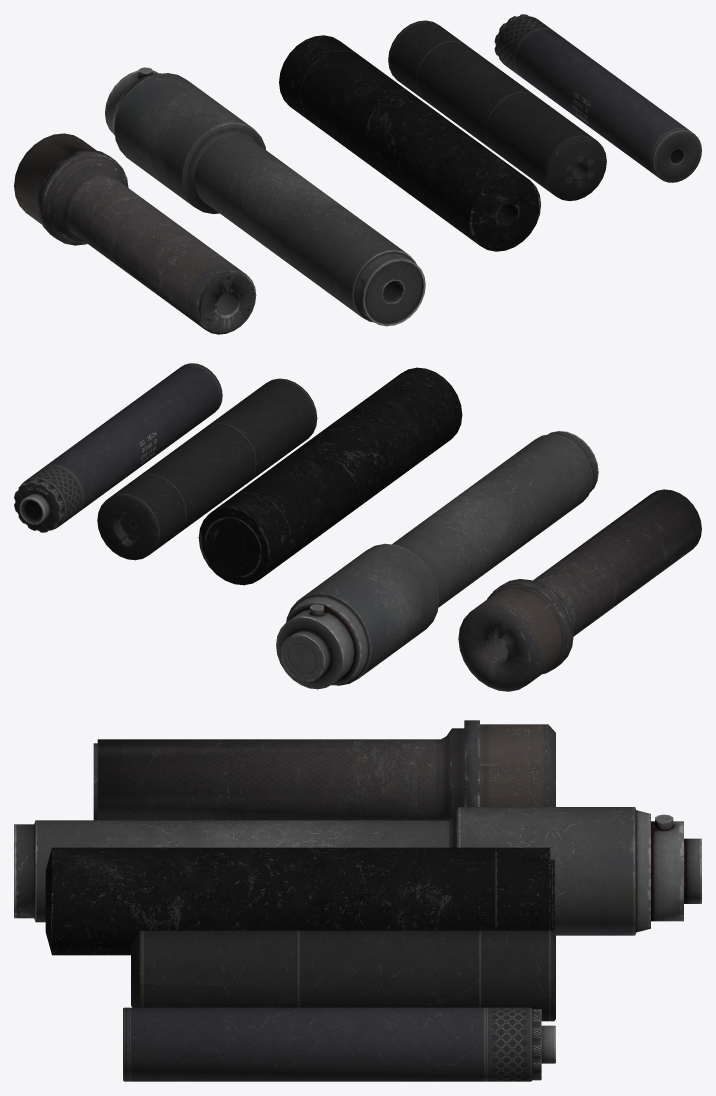
Rendered from Silencer.FBX.
3 renders of one model, top to bottom at view 1: azimuth 30°, elevation 25°; view 2: azimuth 150°, elevation 25°; view 3: azimuth 270°, elevation 25°, orthographic. The views are drawn at different scales.
Parts seen in each view (by area): view 1: GROZA_Muzzle_SL_Set, Large_Suppressor_SR_01, Large_Suppressor_AK, Medium_Suppressor_01, Small_Suppressor_01; view 2: GROZA_Muzzle_SL_Set, Large_Suppressor_SR_01, Large_Suppressor_AK, Medium_Suppressor_01, Small_Suppressor_01; view 3: Large_Suppressor_SR_01, Large_Suppressor_AK, GROZA_Muzzle_SL_Set, Medium_Suppressor_01, Small_Suppressor_01.
Part boxes in pixels (bbox=[...]): GROZA_Muzzle_SL_Set: bbox=[105, 67, 425, 326]; Large_Suppressor_SR_01: bbox=[279, 35, 540, 251]; Large_Suppressor_AK: bbox=[14, 133, 256, 334]; Medium_Suppressor_01: bbox=[388, 20, 606, 200]; Small_Suppressor_01: bbox=[494, 14, 701, 182]; GROZA_Muzzle_SL_Set: bbox=[276, 431, 598, 689]; Large_Suppressor_SR_01: bbox=[198, 367, 462, 585]; Large_Suppressor_AK: bbox=[458, 489, 701, 691]; Medium_Suppressor_01: bbox=[97, 378, 317, 560]; Small_Suppressor_01: bbox=[14, 363, 222, 532]; Large_Suppressor_SR_01: bbox=[45, 847, 554, 955]; Large_Suppressor_AK: bbox=[93, 720, 555, 820]; GROZA_Muzzle_SL_Set: bbox=[14, 807, 701, 935]; Medium_Suppressor_01: bbox=[131, 930, 555, 1021]; Small_Suppressor_01: bbox=[123, 1007, 555, 1081].
Size of the model in its own units: 33.49 by 7.28 by 28.88.
